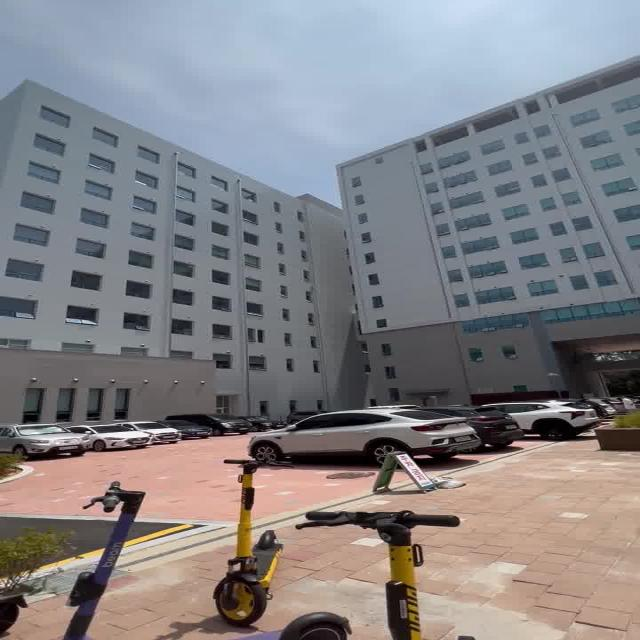building: (19, 94, 640, 399)
